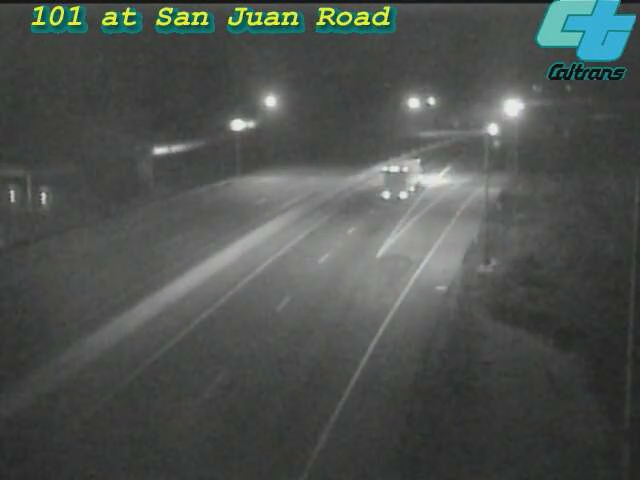vehicle: (370, 131, 450, 211), (468, 103, 518, 153), (486, 83, 536, 133)
